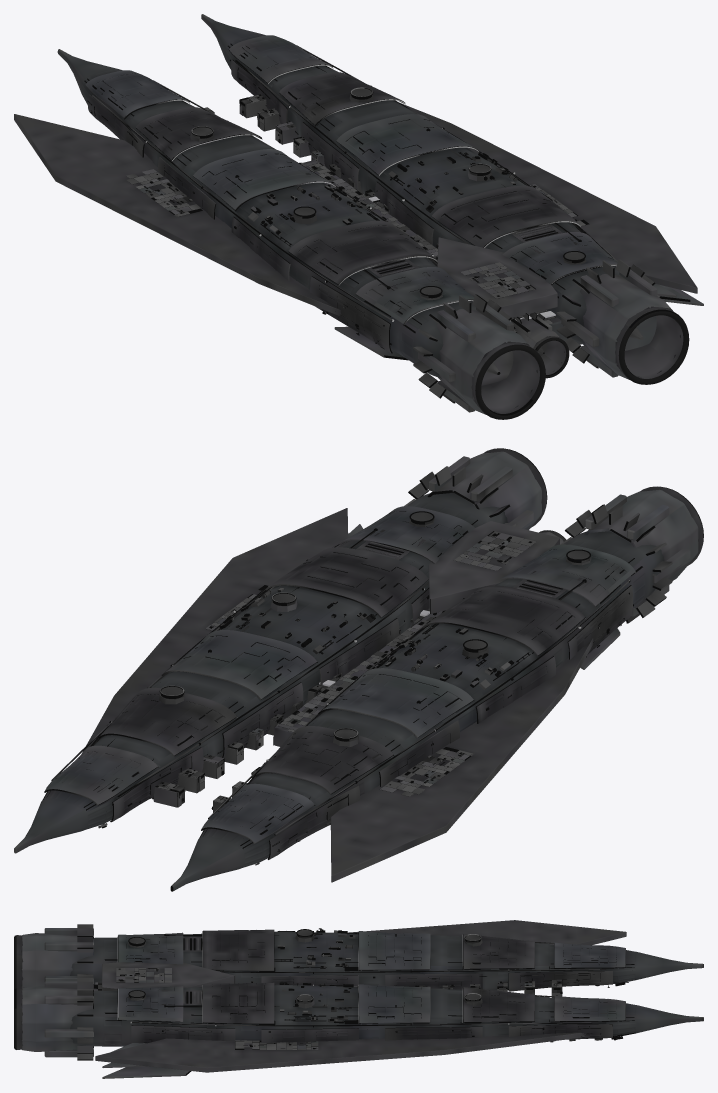
File: red_verdict_hero.glb
The picture shows the model from 3 angles, top to bottom: view 1: azimuth 30°, elevation 25°; view 2: azimuth 150°, elevation 25°; view 3: azimuth 270°, elevation 25°; orthographic projection. The views are drawn at different scales.
Parts seen in each view (by area): view 1: HullBaked; view 2: HullBaked; view 3: HullBaked.
Part boxes in pixels (box(x1,y1,x2,y2)): HullBaked: box(14, 14, 703, 419); HullBaked: box(14, 448, 703, 891); HullBaked: box(14, 920, 703, 1078).
Size of the model in its own units: 500 by 119 by 986.
1 material, 1 textured.
